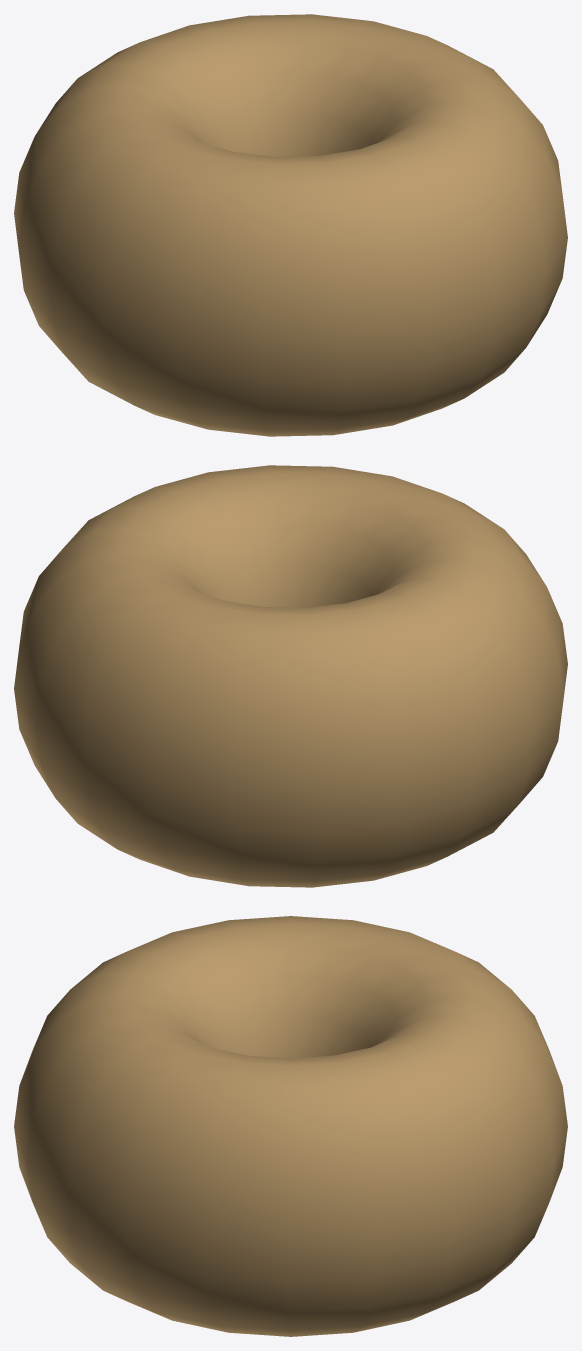
Rendered from Bead.fbx.
The picture shows the model from 3 angles, top to bottom: view 1: azimuth 30°, elevation 25°; view 2: azimuth 150°, elevation 25°; view 3: azimuth 270°, elevation 25°; orthographic projection.
Visible parts, largest first — view 1: Bead_1__TOP; view 2: Bead_1__TOP; view 3: Bead_1__TOP.
Part boxes in pixels (left/top/right/bottom): Bead_1__TOP: left=14, top=14, right=567, bottom=436; Bead_1__TOP: left=14, top=465, right=567, bottom=887; Bead_1__TOP: left=14, top=916, right=567, bottom=1336.
Bounding box in the file's own units: 1.03 × 0.5406 × 1.03.
